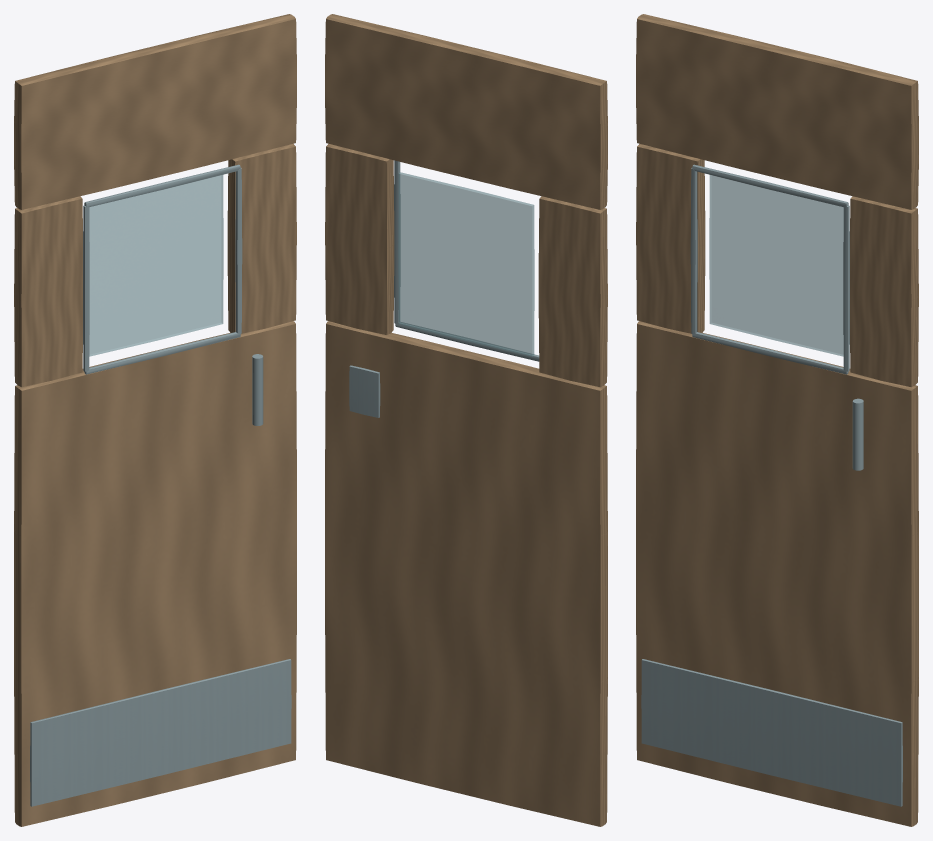
File: door-leaf.glb
3 renders of one model, left to right at view 1: azimuth 30°, elevation 25°; view 2: azimuth 150°, elevation 25°; view 3: azimuth 330°, elevation 25°, orthographic.
Parts seen in each view (by area): view 1: door-leaf; view 2: door-leaf; view 3: door-leaf.
Boxes of the visible parts, <box> form: door-leaf: <box>14,14,296,826</box>; door-leaf: <box>325,14,607,826</box>; door-leaf: <box>636,14,918,826</box>.
Bounding box in the file's own units: 0.82 × 2.1 × 0.11.
Materials: 12 (12 with a texture image).
